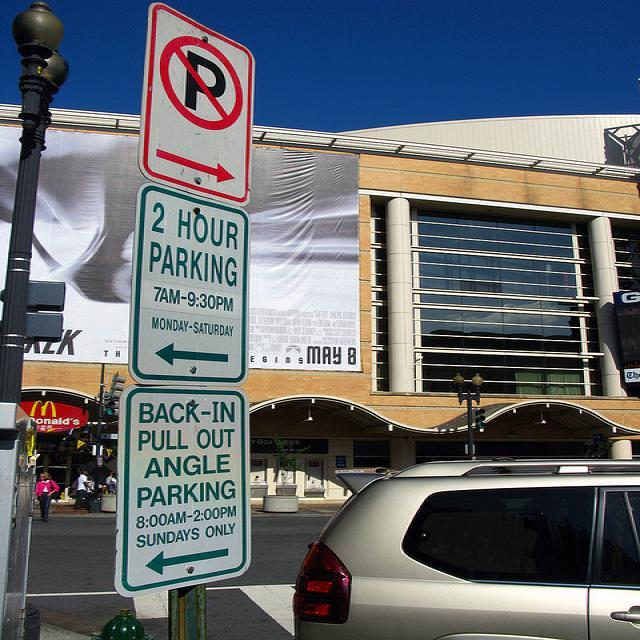fire_hydrant: (93, 608, 155, 640)
